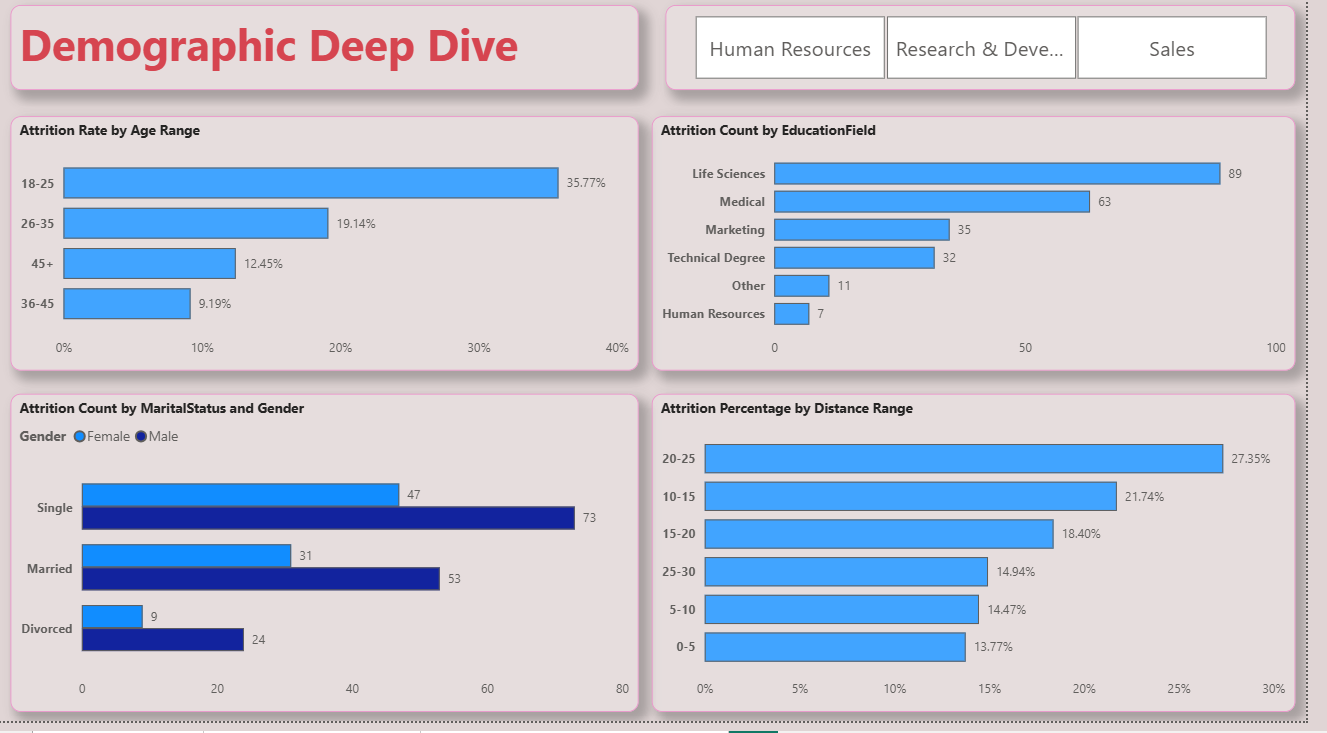

Layout of this report page (visuals, bound fields, positions):
{"tool":"powerbi","page":{"name":"Demographic Deep Dive","canvas":[1280,720],"ordinal":1},"visuals":[{"type":"barChart","fields":{"Category":["HR-Employee-Attrition.Age Range"],"Y":["HR-Employee-Attrition.Attrition Percentage"]},"box":[12.4,128.1,614.5,248.8],"z":0},{"type":"clusteredBarChart","fields":{"Y":["HR-Employee-Attrition.Attrition Count"],"Category":["HR-Employee-Attrition.MaritalStatus"],"Series":["HR-Employee-Attrition.Gender"]},"box":[12.4,399.3,614.5,311],"z":1000},{"type":"clusteredBarChart","fields":{"Category":["HR-Employee-Attrition.Distance Range"],"Y":["HR-Employee-Attrition.Attrition Percentage"]},"box":[639.4,399.3,629.4,311],"z":2000},{"type":"barChart","fields":{"Category":["HR-Employee-Attrition.EducationField"],"Y":["HR-Employee-Attrition.Attrition Count"]},"box":[639.4,128.1,629.4,248.8],"z":3000},{"type":"slicer","fields":{"Values":["HR-Employee-Attrition.Department"]},"box":[653.1,19.9,615.8,83.3],"z":4000},{"type":"textbox","box":[12.4,19.9,614.5,83.3],"z":5000}]}

Visuals, with their boxes in screenshot pixels (x1, y1, x2, y2), scaled from the page's 1280x720 canvas onto the 1327x733 screenshot:
barChart - HR-Employee-Attrition.Age Range x HR-Employee-Attrition.Attrition Percentage: x1=13, y1=130, x2=650, y2=384
clusteredBarChart - HR-Employee-Attrition.Attrition Count x HR-Employee-Attrition.MaritalStatus: x1=13, y1=407, x2=650, y2=723
clusteredBarChart - HR-Employee-Attrition.Distance Range x HR-Employee-Attrition.Attrition Percentage: x1=663, y1=407, x2=1315, y2=723
barChart - HR-Employee-Attrition.EducationField x HR-Employee-Attrition.Attrition Count: x1=663, y1=130, x2=1315, y2=384
slicer - HR-Employee-Attrition.Department: x1=677, y1=20, x2=1315, y2=105
textbox: x1=13, y1=20, x2=650, y2=105
